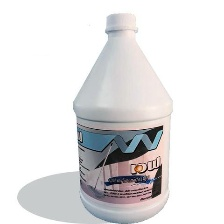cleaning_solution: (69, 7, 175, 224)
